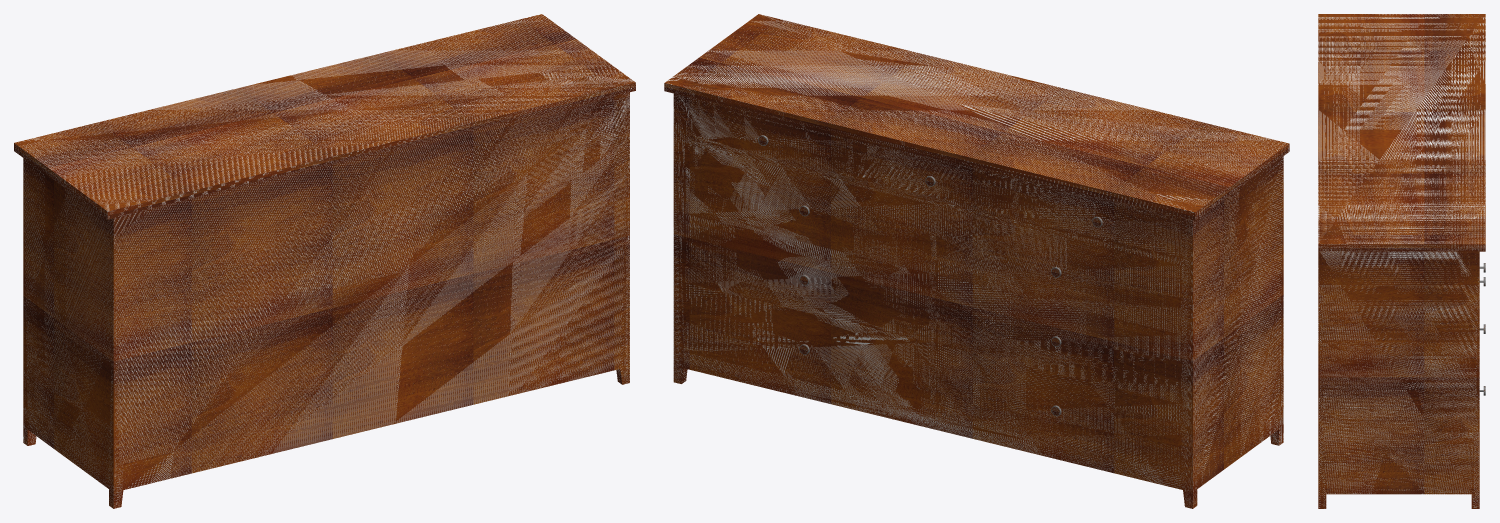
3 views of the same model, side by side, from view 1: azimuth 30°, elevation 25°; view 2: azimuth 150°, elevation 25°; view 3: azimuth 270°, elevation 25° (orthographic). The views are drawn at different scales.
Visible parts, largest first — view 1: mesh2_mesh2-geometry; view 2: mesh2_mesh2-geometry, mesh1_mesh1-geometry; view 3: mesh2_mesh2-geometry.
Boxes of the visible parts, left/top/right/bottom form: mesh2_mesh2-geometry: left=14, top=14, right=635, bottom=508; mesh2_mesh2-geometry: left=664, top=14, right=1289, bottom=508; mesh1_mesh1-geometry: left=758, top=135, right=1102, bottom=416; mesh2_mesh2-geometry: left=1318, top=14, right=1485, bottom=508.
Size of the model in its own units: 0.8491 by 0.4592 by 0.261.
